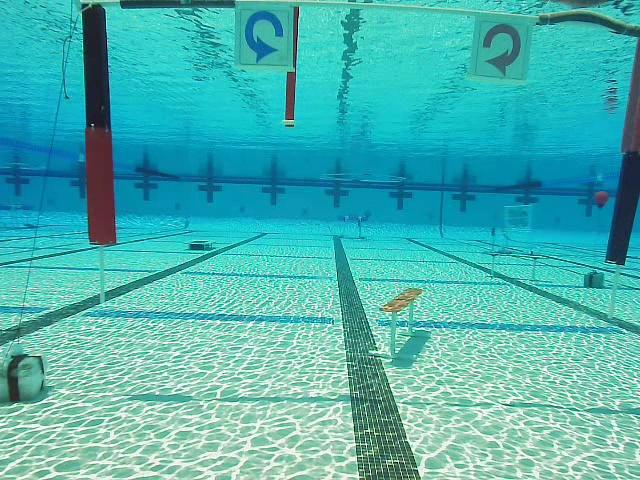buoy: (593, 192, 609, 213)
dropper: (184, 236, 218, 253)
gate_blue: (235, 5, 296, 70)
gate_red: (475, 13, 534, 83)
table: (337, 213, 369, 241)
torpedo: (504, 204, 534, 235)
